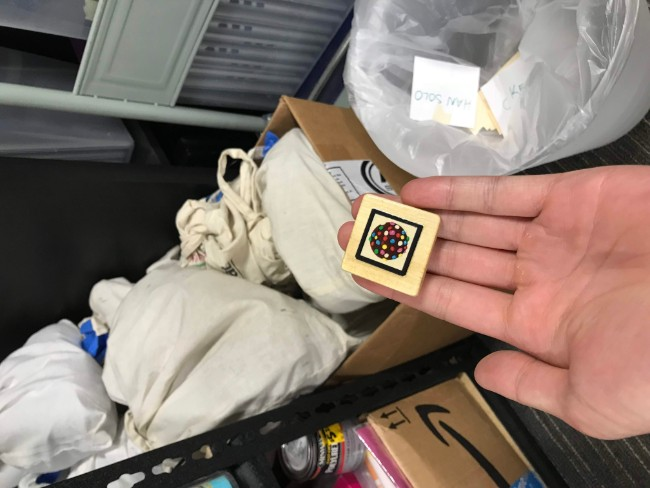cookie: (347, 202, 427, 283)
